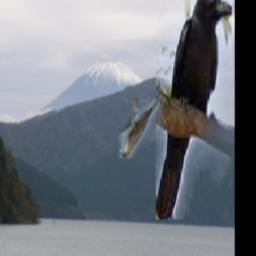Crow: (157, 0, 233, 219)
Cuckoo: (119, 99, 161, 158)
